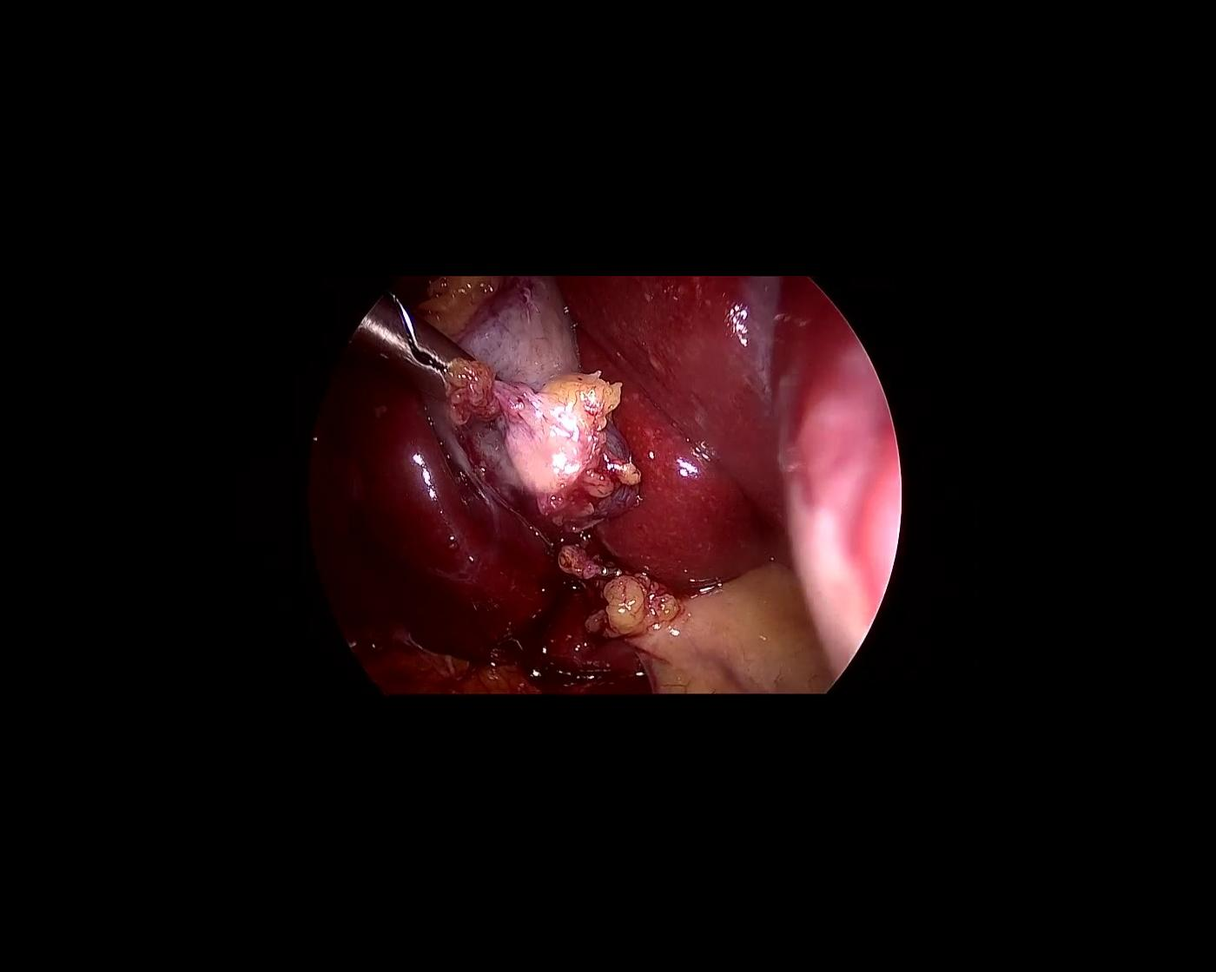Forceps: (347, 292, 504, 436)
Gallbladder: (405, 254, 638, 557)
Liver: (258, 334, 585, 680), (560, 277, 853, 588)
